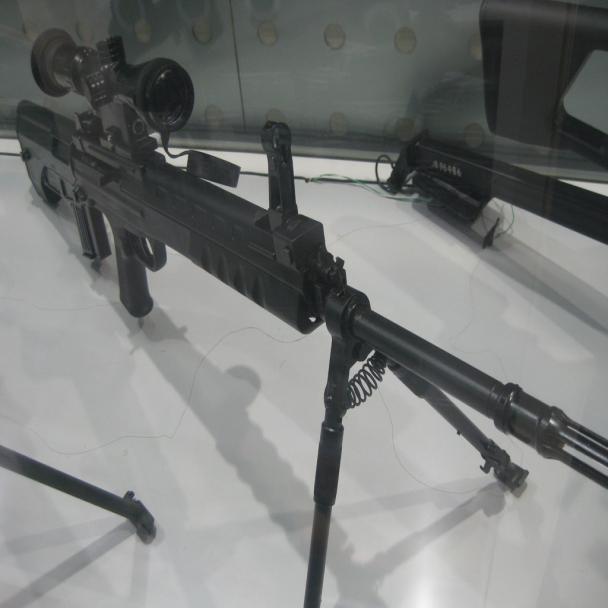Gun: (9, 26, 607, 520)
